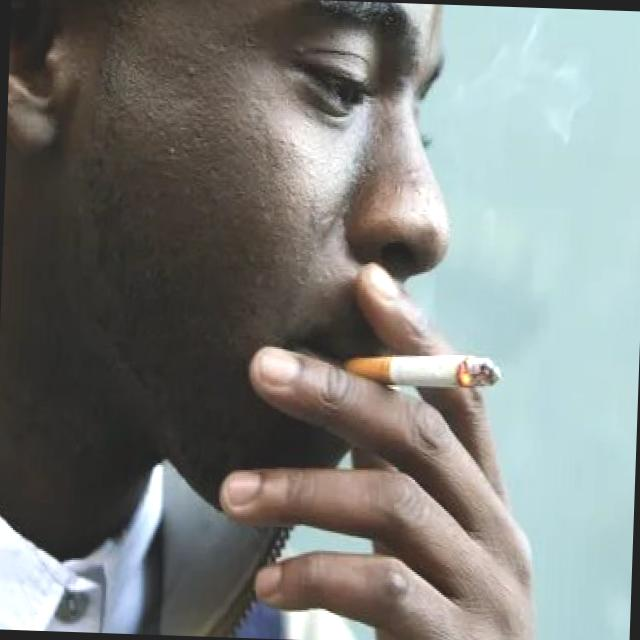cigarette: (334, 348, 502, 398)
